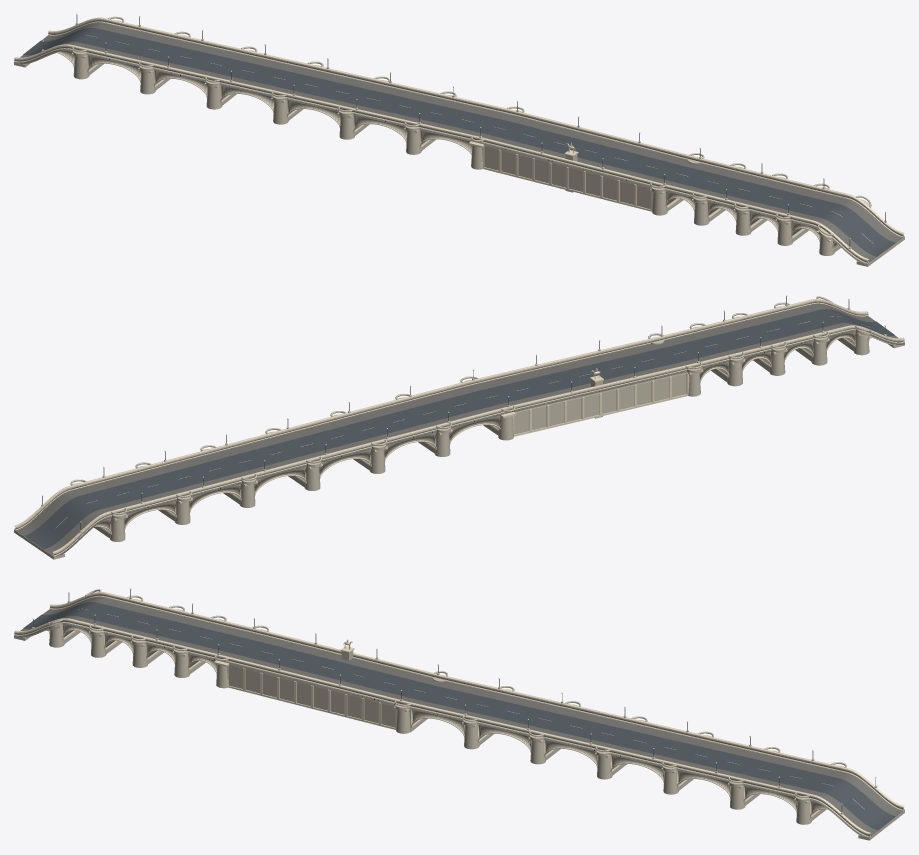
Rendered from paris-pont-neuf-near.glb.
3 views of the same model, one above another, from view 1: azimuth 90°, elevation 25°; view 2: azimuth 150°, elevation 25°; view 3: azimuth 270°, elevation 25° (orthographic).
Parts seen in each view (by area): view 1: paris-pont-neuf-stone, paris-pont-neuf-asphalt, paris-pont-neuf-deck, paris-pont-neuf-trim; view 2: paris-pont-neuf-stone, paris-pont-neuf-asphalt, paris-pont-neuf-deck, paris-pont-neuf-trim; view 3: paris-pont-neuf-stone, paris-pont-neuf-asphalt, paris-pont-neuf-deck, paris-pont-neuf-trim.
Part boxes in pixels (left/top/right/bottom): paris-pont-neuf-stone: left=14, top=16, right=904, bottom=266; paris-pont-neuf-asphalt: left=23, top=28, right=895, bottom=256; paris-pont-neuf-deck: left=14, top=22, right=904, bottom=265; paris-pont-neuf-trim: left=14, top=14, right=904, bottom=263; paris-pont-neuf-stone: left=14, top=296, right=904, bottom=559; paris-pont-neuf-asphalt: left=24, top=309, right=894, bottom=549; paris-pont-neuf-deck: left=14, top=303, right=904, bottom=556; paris-pont-neuf-trim: left=14, top=295, right=904, bottom=556; paris-pont-neuf-stone: left=14, top=589, right=904, bottom=840; paris-pont-neuf-asphalt: left=23, top=602, right=895, bottom=830; paris-pont-neuf-deck: left=14, top=596, right=904, bottom=837; paris-pont-neuf-trim: left=14, top=588, right=904, bottom=837.
Bounding box in the file's own units: 153 × 14.92 × 250.
